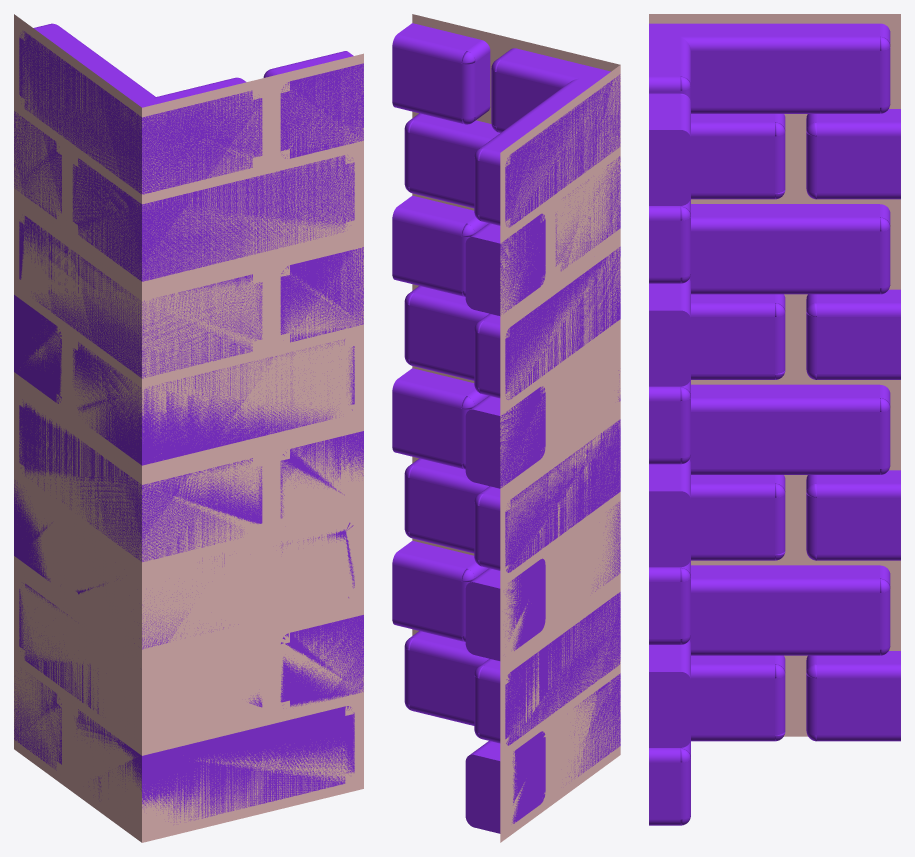
The model's file is concave_1.dae.
3 renders of one model, left to right at view 1: azimuth 30°, elevation 25°; view 2: azimuth 150°, elevation 25°; view 3: azimuth 270°, elevation 25°, orthographic. The views are drawn at different scales.
Parts seen in each view (by area): view 1: group_7 (×8), corner_concave (×8), group_10 (×8), group_1 (×8), brick_half (×8); view 2: corner_concave (×13), brick_half (×8), group_7 (×4), group_10 (×5), group_1 (×5), group_5 (×4), group_6; view 3: corner_concave (×24), brick_half (×8), group_7 (×4), group_5 (×5), group_13 (×8), group_1 (×4), group_10 (×4), group_6 (×4), group_8 (×4), group_2 (×4), group_12 (×3), group_9.
Part boxes in pixels (x1,y1,x2,y2): group_7 (×8): [14, 14, 363, 842]; corner_concave (×8): [19, 24, 354, 822]; group_10 (×8): [67, 76, 271, 842]; group_1 (×8): [14, 53, 363, 787]; brick_half (×8): [14, 51, 363, 770]; corner_concave (×13): [409, 48, 620, 777]; brick_half (×8): [392, 23, 545, 833]; group_7 (×4): [500, 65, 620, 760]; group_10 (×5): [499, 35, 620, 805]; group_1 (×5): [412, 14, 550, 842]; group_5 (×4): [392, 34, 466, 581]; group_6: [461, 62, 475, 118]; corner_concave (×24): [649, 23, 879, 819]; brick_half (×8): [649, 94, 900, 747]; group_7 (×4): [649, 14, 900, 650]; group_5 (×5): [680, 94, 900, 678]; group_13 (×8): [680, 47, 890, 819]; group_1 (×4): [796, 99, 900, 736]; group_10 (×4): [784, 114, 795, 736]; group_6 (×4): [806, 132, 816, 735]; group_8 (×4): [775, 133, 785, 735]; group_2 (×4): [817, 193, 900, 741]; group_12 (×3): [649, 206, 680, 762]; group_9: [649, 76, 680, 90].
Bounding box in the file's own units: 23.62 × 23.62 × 74.8.
